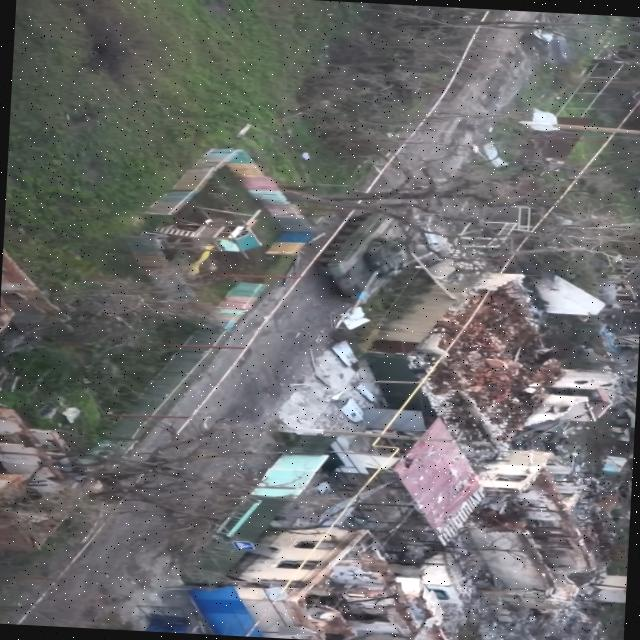MBT: (313, 203, 421, 318)
